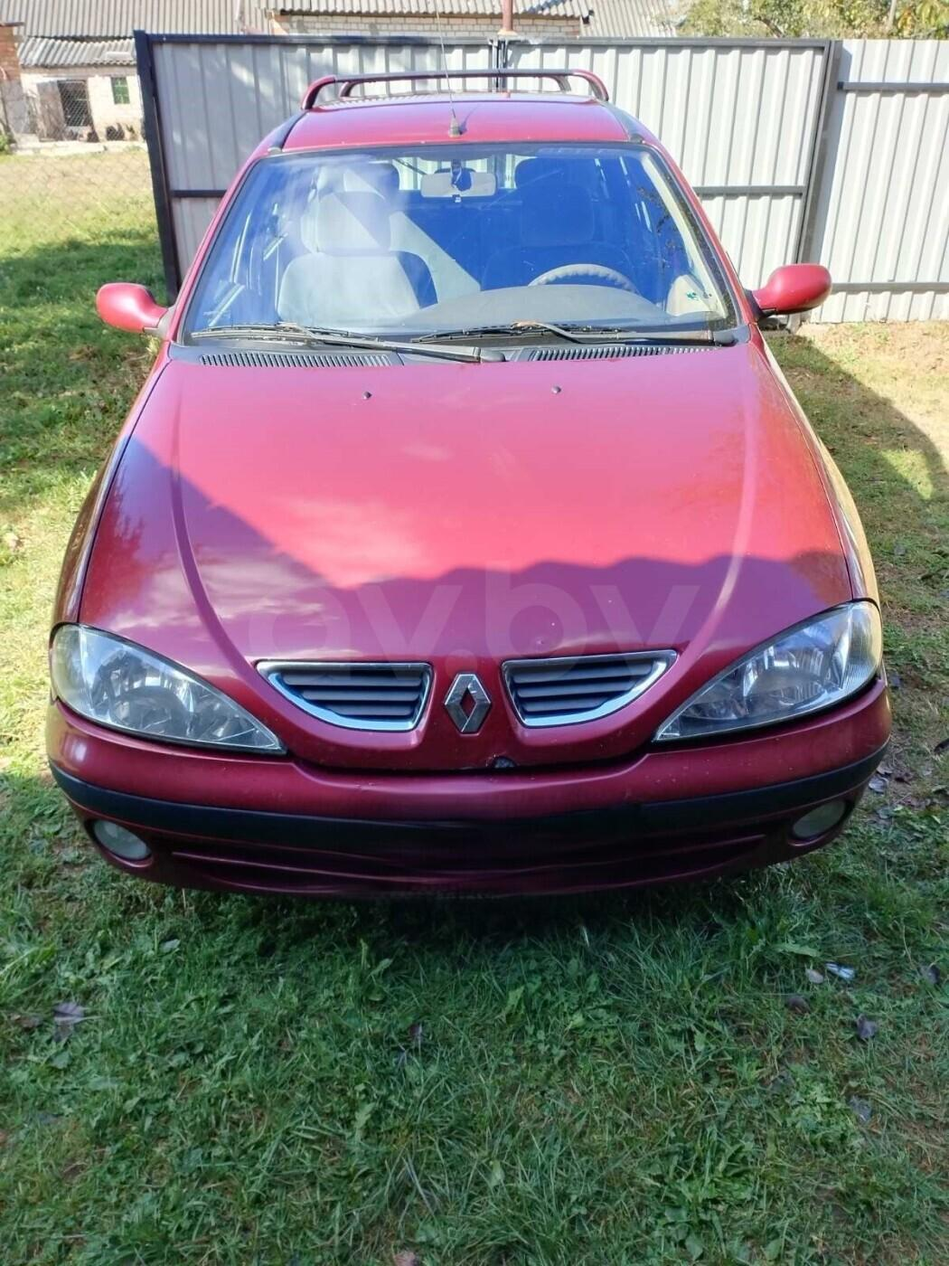Megane_1999-2003: (43, 87, 891, 931)
